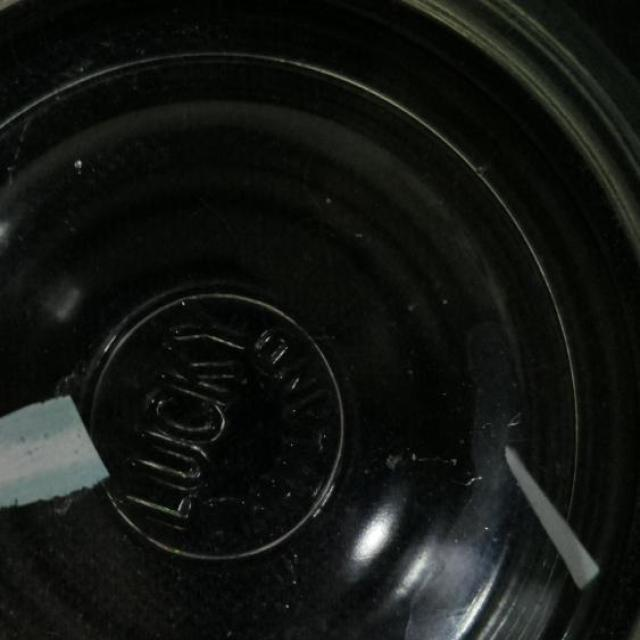fiber: (502, 442, 620, 591), (0, 396, 110, 509)
